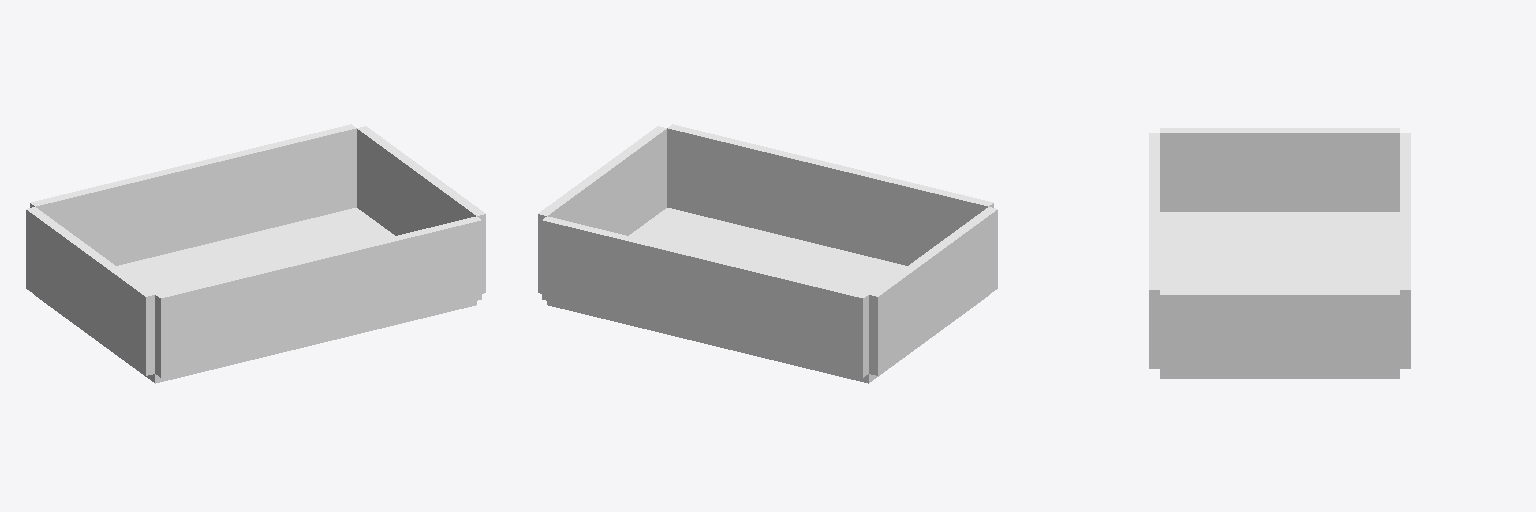
Rendered from humanoid-74.obj.
3 views of the same model, side by side, from view 1: azimuth 30°, elevation 25°; view 2: azimuth 150°, elevation 25°; view 3: azimuth 270°, elevation 25° (orthographic).
Visible parts, largest first — view 1: humanoid-74; view 2: humanoid-74; view 3: humanoid-74.
Boxes of the visible parts, box(x1,y1,x2,y2) form: humanoid-74: box(26, 124, 485, 383); humanoid-74: box(538, 124, 997, 383); humanoid-74: box(1149, 128, 1410, 378).
Size of the model in its own units: 36 by 9 by 24.